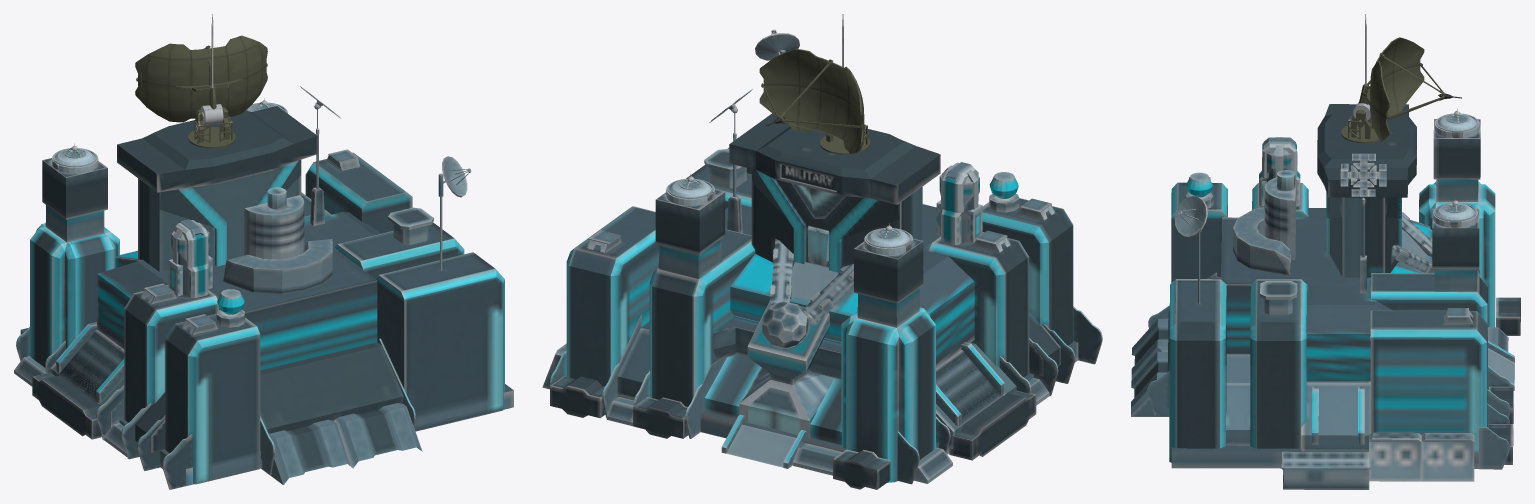
File: Military_Building_04.fbx
3 renders of one model, left to right at view 1: azimuth 30°, elevation 25°; view 2: azimuth 150°, elevation 25°; view 3: azimuth 270°, elevation 25°, orthographic. The views are drawn at different scales.
Visible parts, largest first — view 1: MilitaryBaseBuilding, radar1; view 2: MilitaryBaseBuilding, radar1; view 3: MilitaryBaseBuilding, radar1.
Part boxes in pixels (<box>): MilitaryBaseBuilding: <box>14,86,513,489</box>; radar1: <box>135,14,267,148</box>; MilitaryBaseBuilding: <box>542,29,1102,489</box>; radar1: <box>759,14,870,154</box>; MilitaryBaseBuilding: <box>1131,104,1520,489</box>; radar1: <box>1341,14,1461,143</box>.
Bounding box in the file's own units: 146 × 134 × 130.
1 material, 1 textured.
